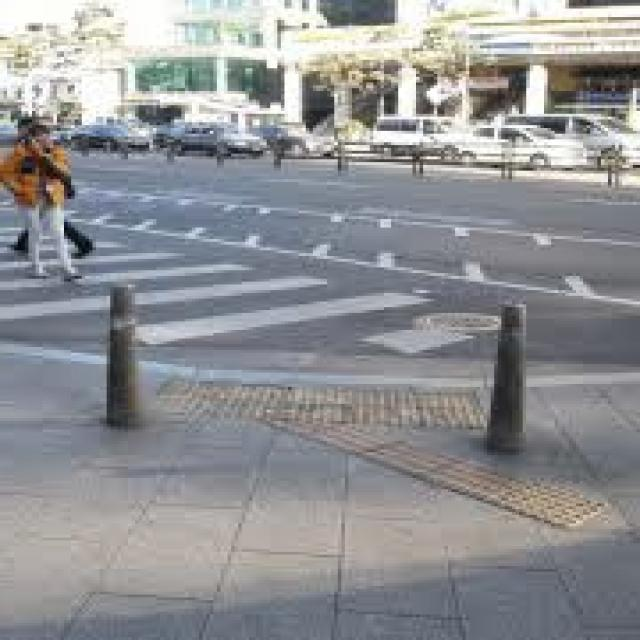bollard: (476, 296, 539, 460), (100, 276, 152, 432)
